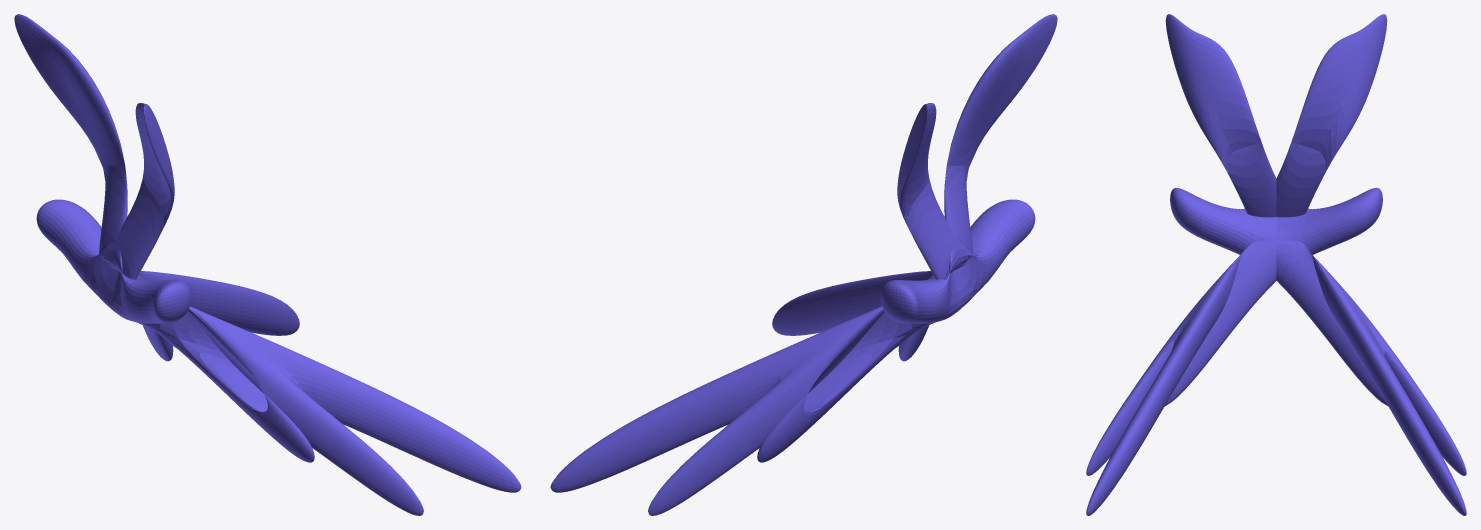
The model's file is Creaturestruc3.obj.
3 renders of one model, left to right at view 1: azimuth 30°, elevation 25°; view 2: azimuth 150°, elevation 25°; view 3: azimuth 270°, elevation 25°, orthographic. The views are drawn at different scales.
Visible parts, largest first — view 1: Cube_Cube.004; view 2: Cube_Cube.004; view 3: Cube_Cube.004.
Boxes of the visible parts, x1=… form: Cube_Cube.004: x1=14, y1=14, x2=521, y2=515; Cube_Cube.004: x1=550, y1=14, x2=1057, y2=515; Cube_Cube.004: x1=1086, y1=14, x2=1466, y2=515.
Size of the model in its own units: 15.12 by 18.79 by 17.66.
